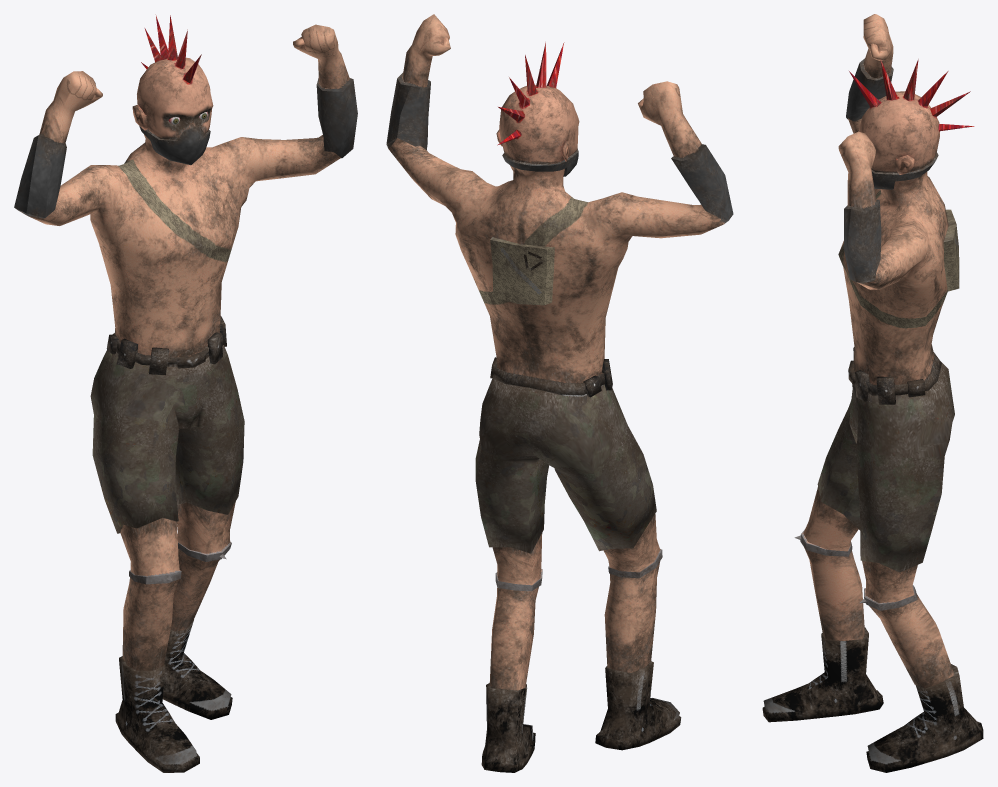
File: Anim_ganar_1_npc2.0018.obj
The picture shows the model from 3 angles, left to right: view 1: azimuth 30°, elevation 25°; view 2: azimuth 150°, elevation 25°; view 3: azimuth 270°, elevation 25°; orthographic projection. The views are drawn at different scales.
Parts seen in each view (by area): view 1: polySurface1; view 2: polySurface1; view 3: polySurface1.
Part boxes in pixels (<box>): polySurface1: <box>14,14,357,772</box>; polySurface1: <box>386,14,733,772</box>; polySurface1: <box>762,14,983,772</box>.
Size of the model in its own units: 5.14 by 10.11 by 2.92.
Materials: 2 (2 with a texture image).
